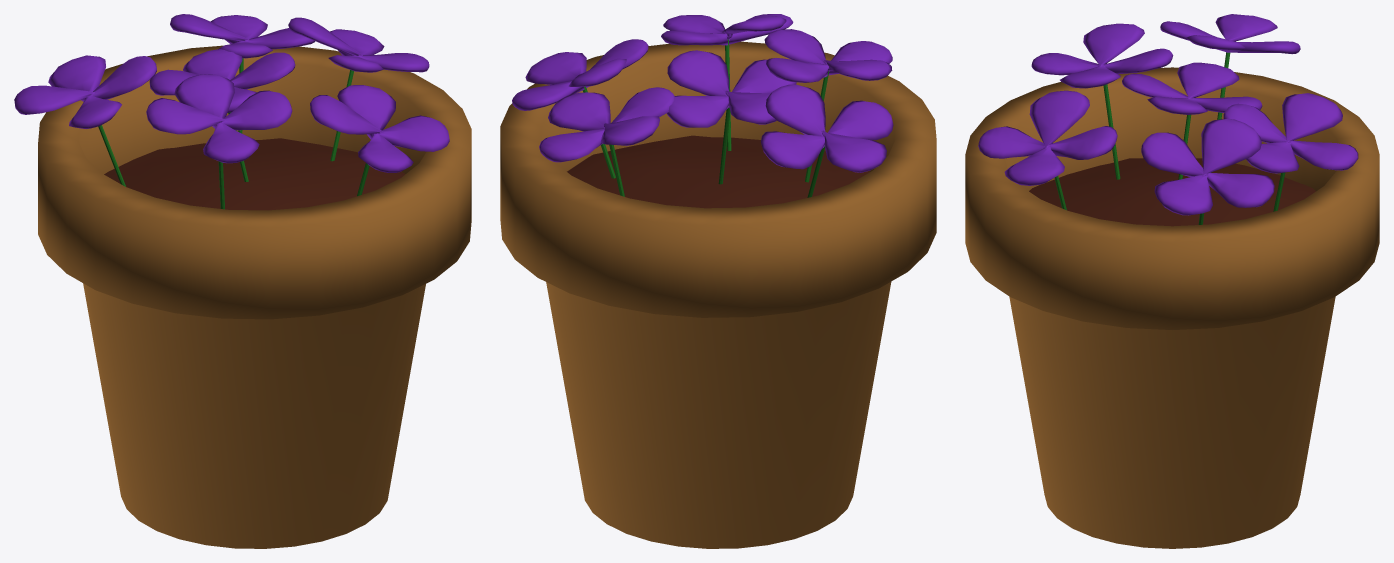
The model's file is FlowerPot.fbx.
3 views of the same model, side by side, from view 1: azimuth 30°, elevation 25°; view 2: azimuth 150°, elevation 25°; view 3: azimuth 270°, elevation 25° (orthographic). The views are drawn at different scales.
Parts seen in each view (by area): view 1: Cylinder, Icosphere, Cylinder.002, Cylinder.005, Cylinder.011, Cylinder.009, Cylinder.007, Cylinder.003; view 2: Cylinder, Icosphere, Cylinder.011, Cylinder.009, Cylinder.003, Cylinder.002, Cylinder.007, Cylinder.005; view 3: Cylinder, Icosphere, Cylinder.007, Cylinder.005, Cylinder.003, Cylinder.002, Cylinder.009, Cylinder.011.
Part boxes in pixels (x1,y1,x2,y2): Cylinder: [38, 45, 471, 548]; Icosphere: [104, 138, 405, 210]; Cylinder.002: [146, 74, 292, 163]; Cylinder.005: [310, 85, 449, 172]; Cylinder.011: [14, 55, 156, 128]; Cylinder.009: [149, 49, 295, 112]; Cylinder.007: [288, 17, 429, 72]; Cylinder.003: [170, 14, 315, 58]; Cylinder: [500, 41, 936, 548]; Icosphere: [567, 135, 869, 208]; Cylinder.011: [761, 84, 893, 172]; Cylinder.009: [667, 50, 796, 127]; Cylinder.003: [539, 87, 674, 162]; Cylinder.002: [764, 29, 892, 82]; Cylinder.007: [512, 39, 648, 110]; Cylinder.005: [661, 14, 793, 45]; Cylinder: [965, 67, 1379, 548]; Icosphere: [1029, 158, 1315, 226]; Cylinder.007: [1141, 118, 1274, 215]; Cylinder.005: [978, 90, 1117, 185]; Cylinder.003: [1223, 93, 1358, 173]; Cylinder.002: [1031, 23, 1173, 88]; Cylinder.009: [1122, 62, 1262, 114]; Cylinder.011: [1160, 14, 1300, 54].
Bounding box in the file's own units: 333 × 359 × 324.
